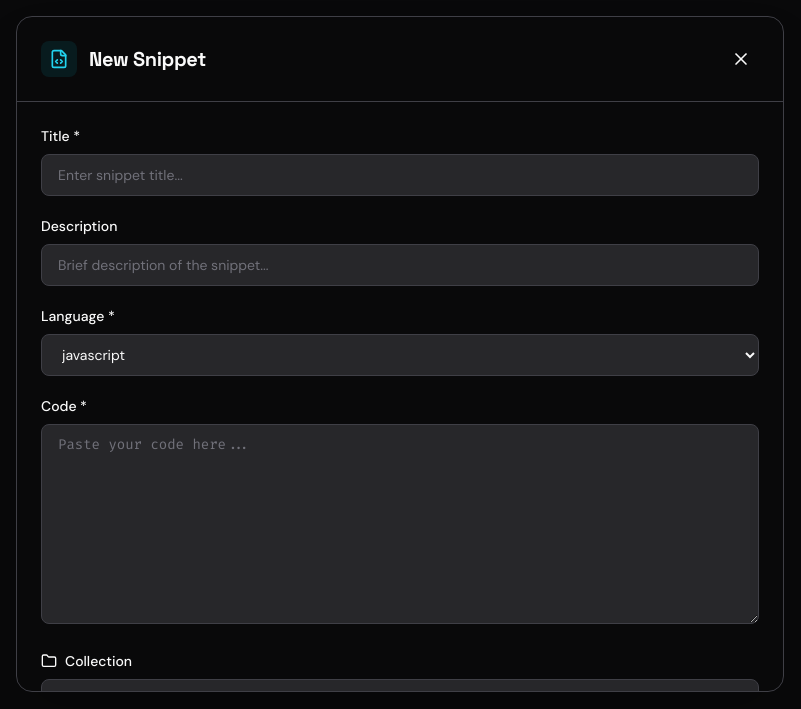
Scenario: SnippetForm › shows validation error for empty code
Type "Test Title" into the field with placeholder "Enter snippet title..." at (400, 175), box [41, 154, 759, 196]
(page scrolled)
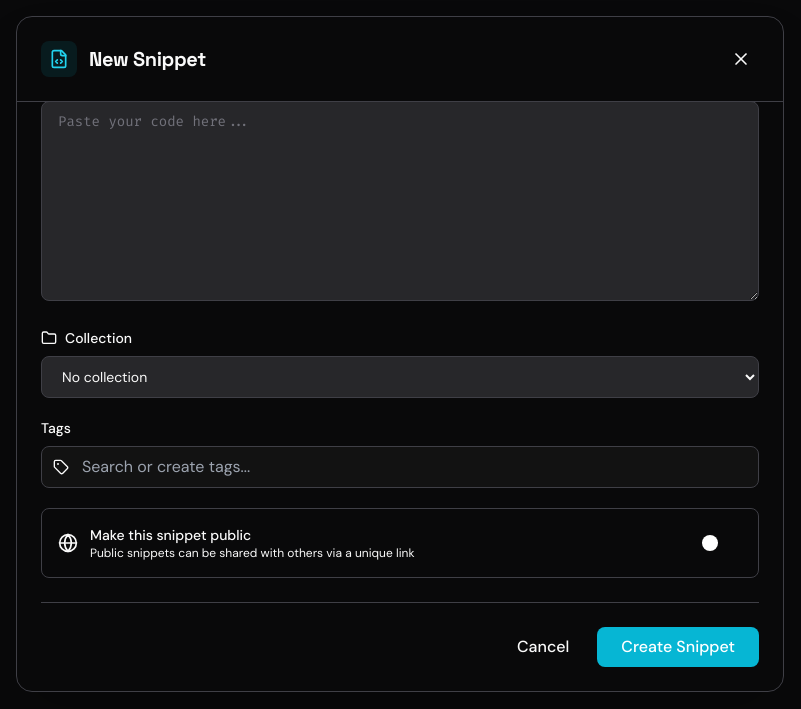
Click the button "Create Snippet" at (678, 647), box [597, 627, 759, 667]
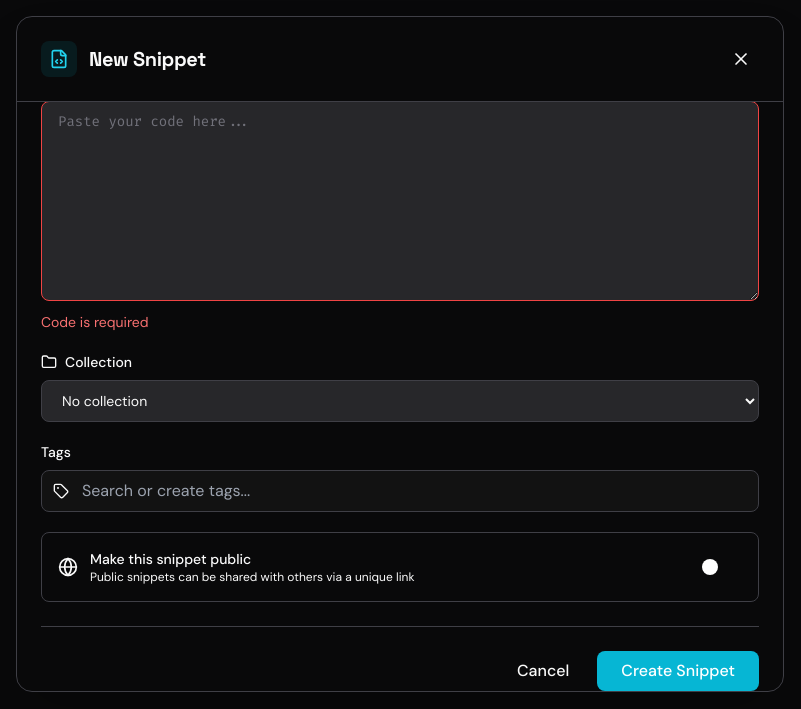
Check: the text "Code is required" is shown, box [41, 313, 149, 331]
